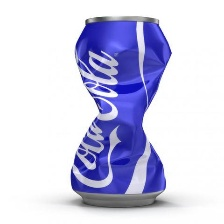can: (67, 13, 175, 209)
